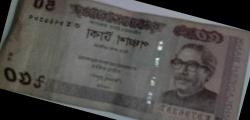50 taka: (4, 2, 243, 117)
